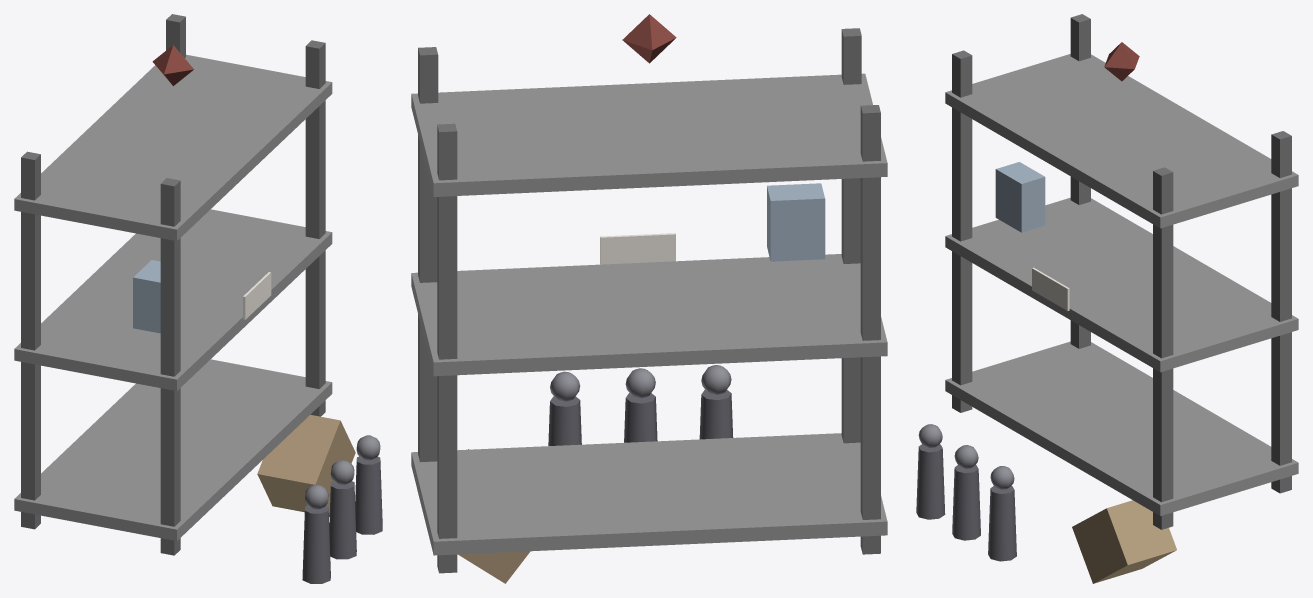
The model's file is empty_shelf.glb.
3 views of the same model, side by side, from view 1: azimuth 30°, elevation 25°; view 2: azimuth 150°, elevation 25°; view 3: azimuth 270°, elevation 25° (orthographic). The views are drawn at different scales.
Bounding box in the file's own units: 1.65 × 2.15 × 1.57.
